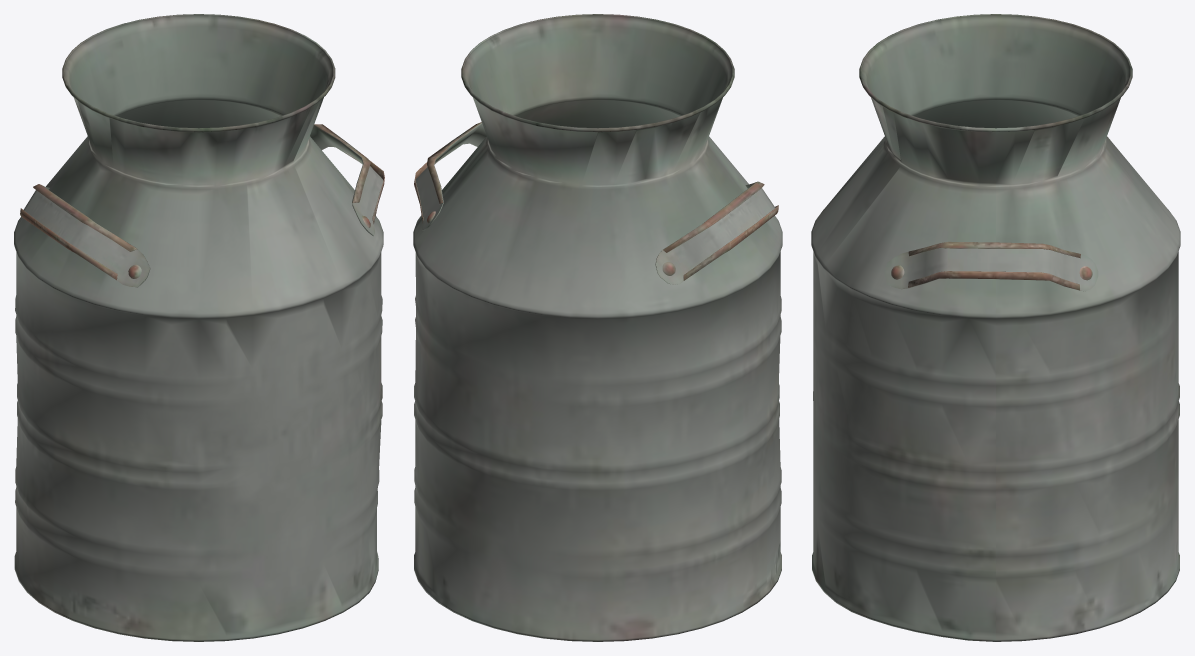
The model's file is metal_jug.glb.
3 views of the same model, side by side, from view 1: azimuth 30°, elevation 25°; view 2: azimuth 150°, elevation 25°; view 3: azimuth 270°, elevation 25° (orthographic).
Visible parts, largest first — view 1: metal_jug; view 2: metal_jug; view 3: metal_jug.
Boxes of the visible parts, bbox=[...] form: metal_jug: bbox=[14, 14, 384, 641]; metal_jug: bbox=[413, 14, 782, 641]; metal_jug: bbox=[811, 14, 1180, 641].
Bounding box in the file's own units: 0.1968 × 0.2875 × 0.1955.
Materials: 1 (1 with a texture image).
